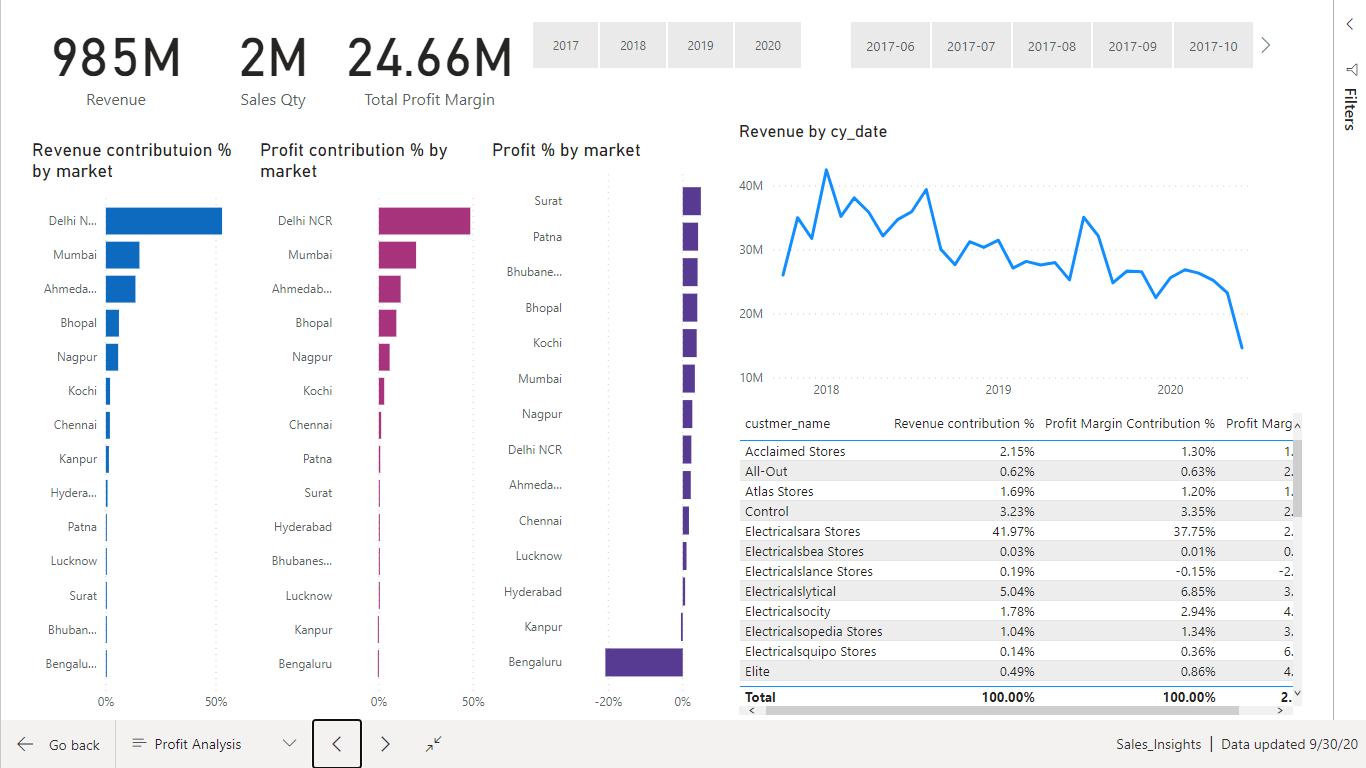

What the dashboard file says about the page in this screenshot:
{"tool":"powerbi","page":{"name":"Profit Analysis","canvas":[1280,720],"ordinal":1},"visuals":[{"type":"card","fields":{"Values":["Base Measures.Revenue"]},"box":[0,0,178.2,120.7],"z":0},{"type":"card","fields":{"Values":["Base Measures.Sales Qty"]},"box":[162.9,0,166.3,120.9],"z":1000},{"type":"clusteredBarChart","title":"Revenue contributuion % by market","fields":{"Y":["Base Measures.Revenue contribution %"],"Category":["markets.markets_name"]},"box":[0,139.4,228.4,581.2],"z":2000},{"type":"clusteredBarChart","title":"Profit contribution % by market","fields":{"Y":["Base Measures.Profit Margin Contribution %"],"Category":["markets.markets_name"]},"box":[228.4,139.4,253.6,581.2],"z":3000},{"type":"slicer","fields":{"Values":["Dates.year"]},"box":[480.4,15.1,317.5,60.5],"z":4000},{"type":"slicer","fields":{"Values":["Dates.cy_date"]},"box":[797.9,15.1,451.9,60.5],"z":5000},{"type":"lineChart","fields":{"Category":["Dates.cy_date"],"Y":["Base Measures.Revenue"]},"box":[707.2,120.9,525.8,287.2],"z":6000},{"type":"tableEx","fields":{"Values":["customer.custmer_name","Base Measures.Revenue contribution %","Base Measures.Profit Margin Contribution %","Base Measures.Profit Margin %"]},"box":[707.2,408.2,572.8,312.4],"z":7000},{"type":"clusteredBarChart","title":"Profit % by market","fields":{"Y":["Base Measures.Profit Margin %"],"Category":["markets.markets_name"]},"box":[460.3,139.4,246.9,581.2],"z":8000},{"type":"card","fields":{"Values":["Base Measures.Total Profit Margin"]},"box":[312.4,0,181.4,120.9],"z":9000}]}

Visuals, with their boxes on the page's 1280x720 design canvas (x1, y1, x2, y2). These are canvas units, not pixel positions in the 1366x768 screenshot, which may show the page scaled, cropped or inside an application window:
card - Base Measures.Revenue: 0/0/178/121
card - Base Measures.Sales Qty: 163/0/329/121
"Revenue contributuion % by market" clusteredBarChart: 0/139/228/721
"Profit contribution % by market" clusteredBarChart: 228/139/482/721
slicer - Dates.year: 480/15/798/76
slicer - Dates.cy_date: 798/15/1250/76
lineChart - Dates.cy_date x Base Measures.Revenue: 707/121/1233/408
tableEx - customer.custmer_name x Base Measures.Revenue contribution %: 707/408/1280/721
"Profit % by market" clusteredBarChart: 460/139/707/721
card - Base Measures.Total Profit Margin: 312/0/494/121
